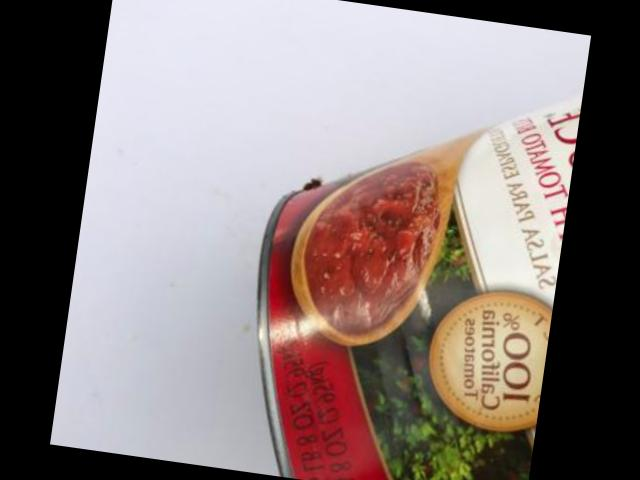metal: (259, 96, 583, 480)
